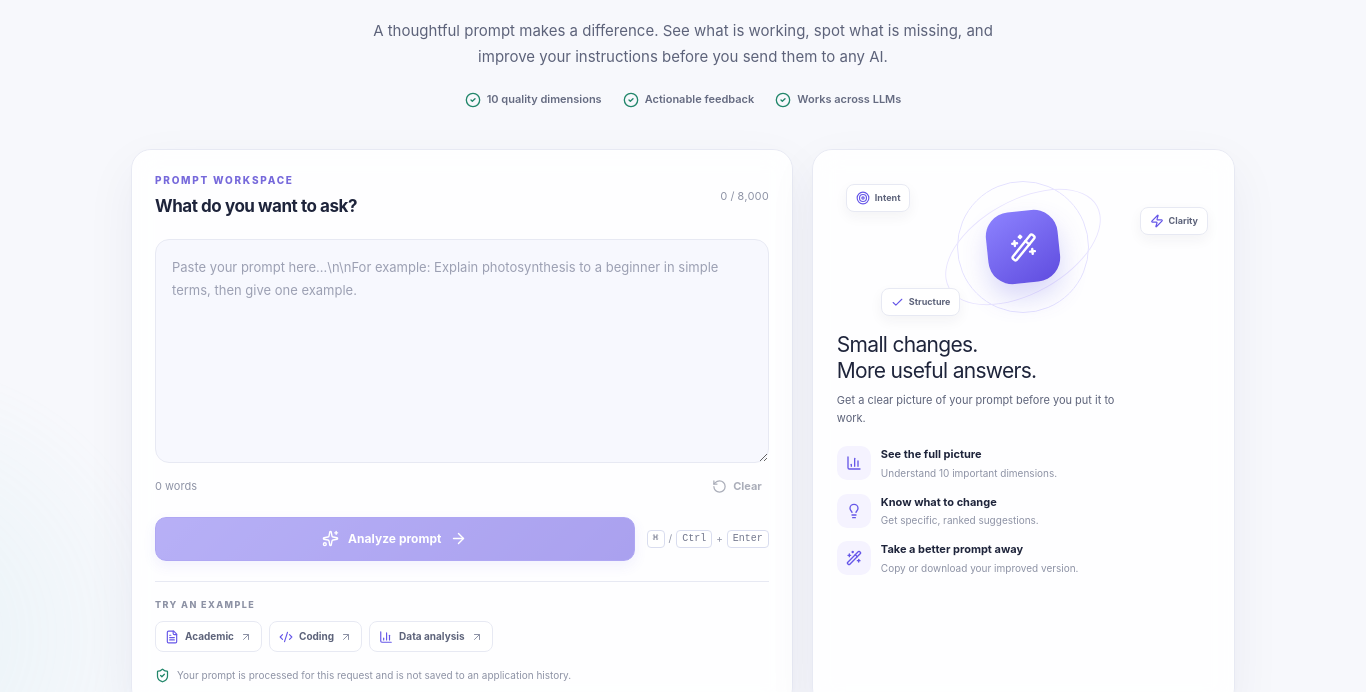
Test: Prompt Quality Analyzer UI › submits a prompt and renders score plus all dimension results
(page scrolled)
Replace the text in the text box named "enter the prompt" with "Explain photosynthesis" at (462,351), box [155,239,769,463]
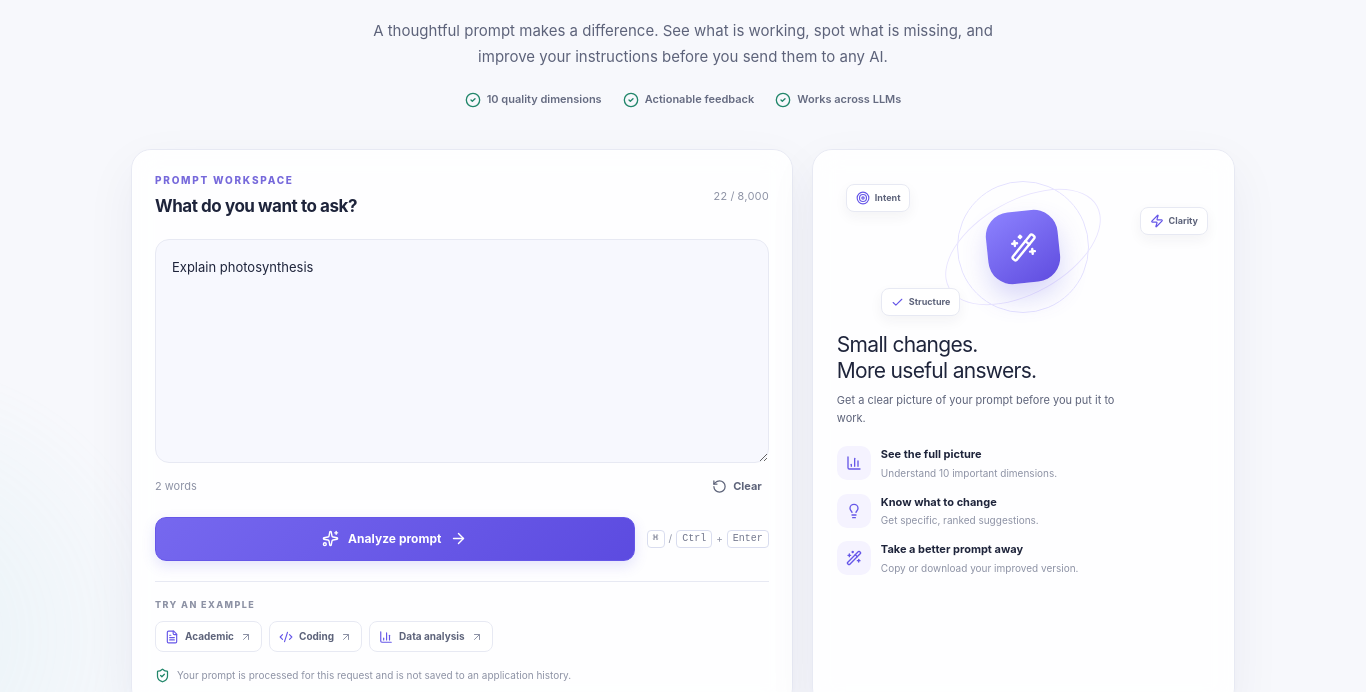
Click the button "Analyze prompt" at (395,539), box [155,517,634,561]
(page scrolled)
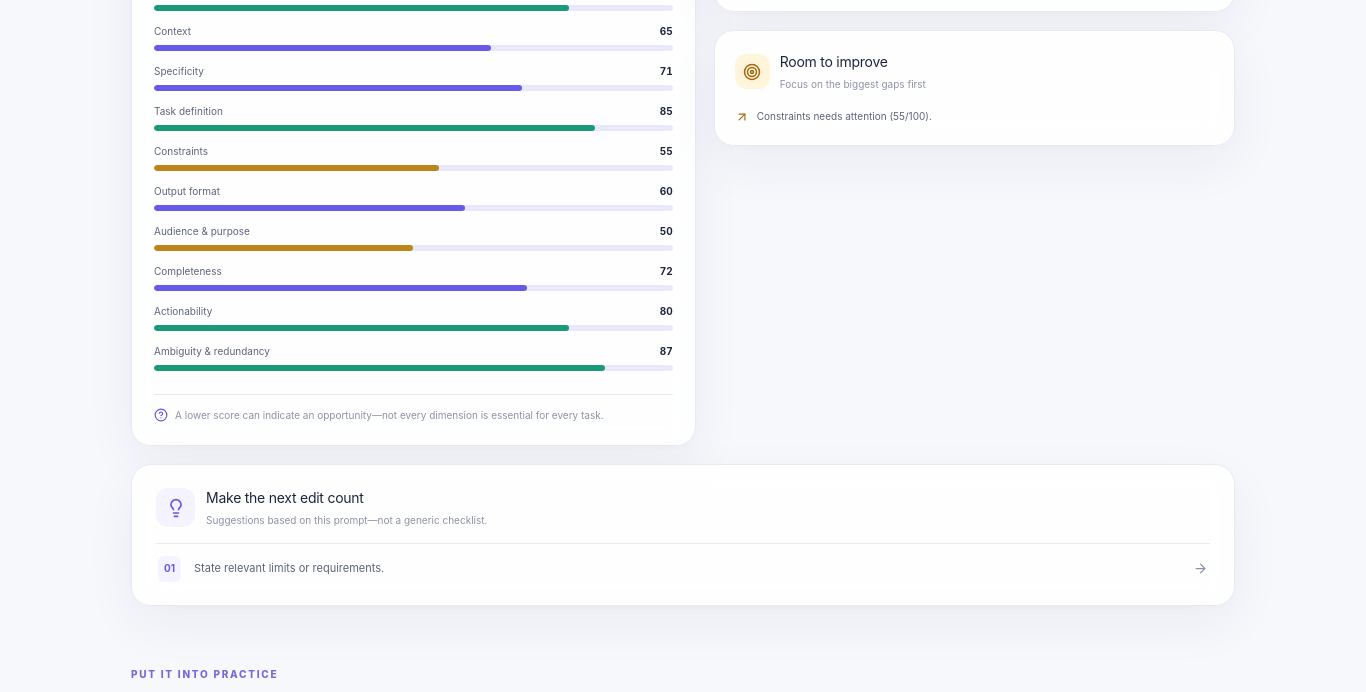
expect the text "Ambiguity & redundancy" is shown: met, box [154,344,270,359]
